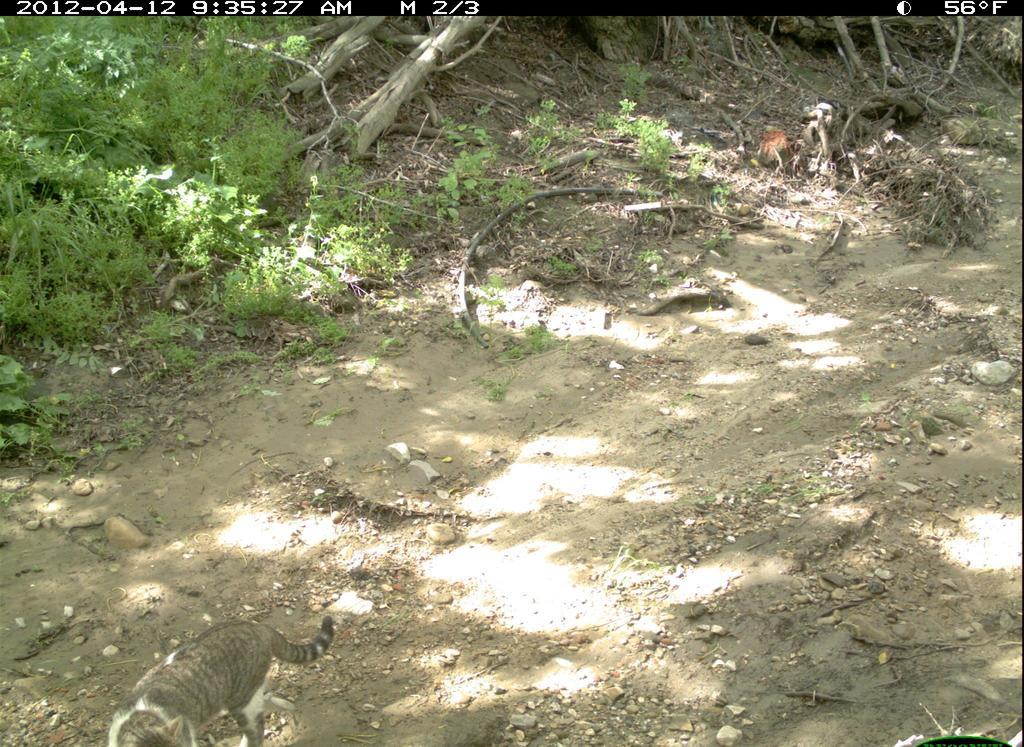cat: (111, 602, 346, 745)
